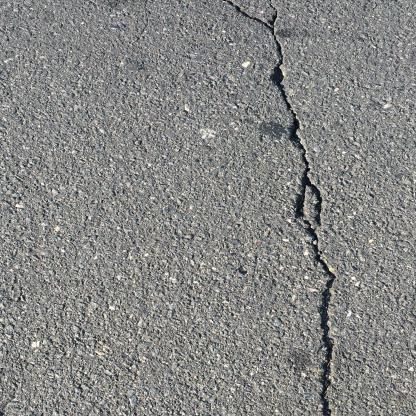Cracks: (173, 0, 337, 416)
